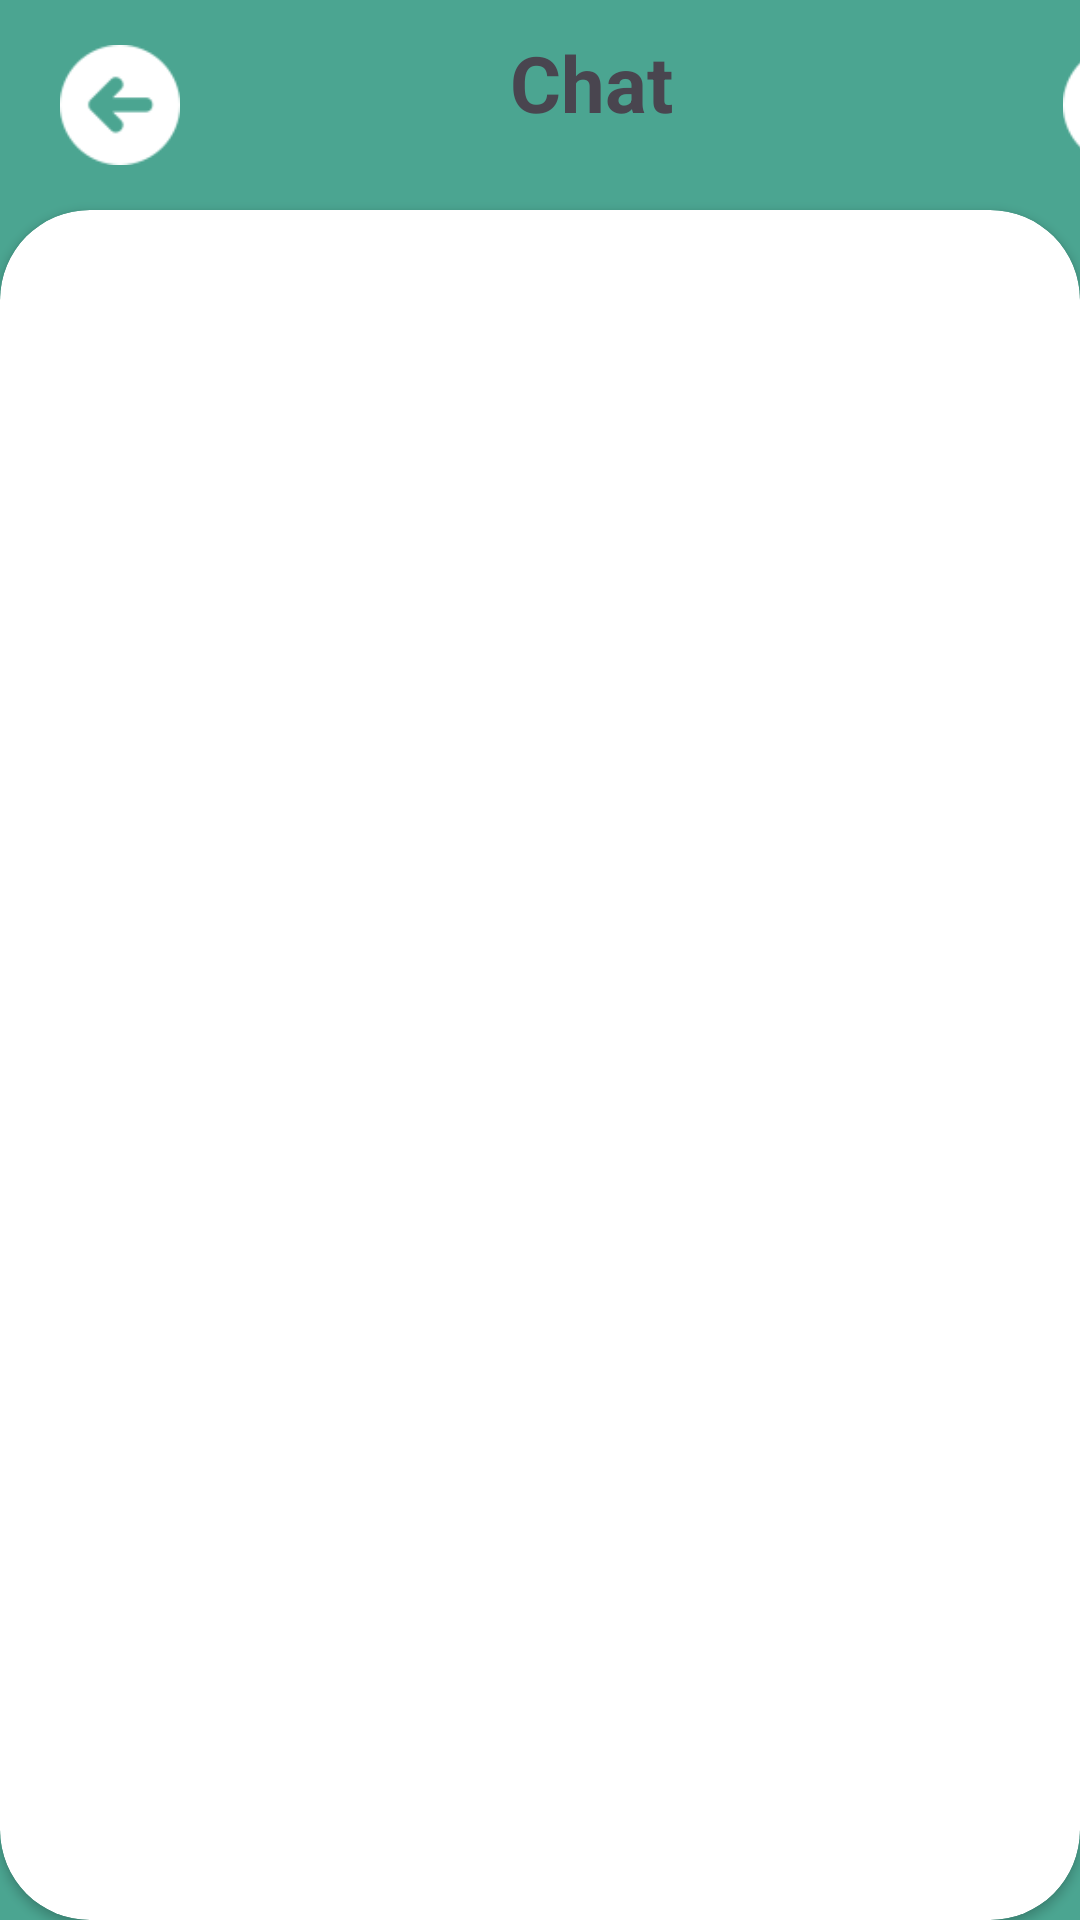

Locate icon controls on the screen. Image size 1080×1920, boxes as region(x1, y1, x2, y2).
previous: region(60, 45, 180, 165)
